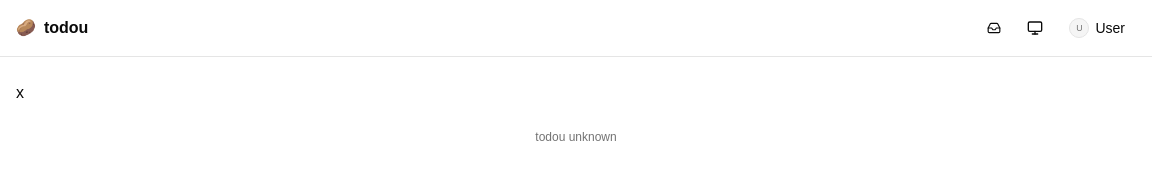
Test: AppShell logout visibility › hides Log out in forward mode — the proxy owns the login state
This screenshot has width=1152, height=192.
Press the mouse on the button "U User" at (1097, 28), box [1058,14,1136,42]
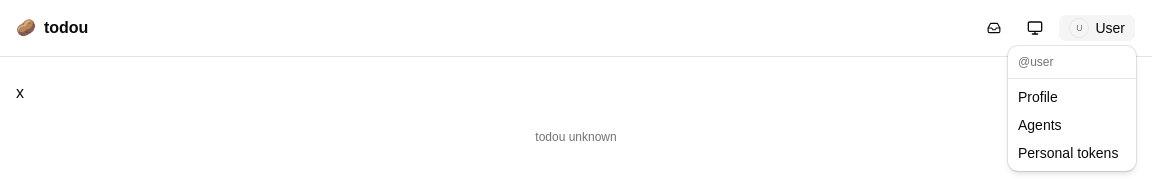
Expected: the menu item "Profile" is shown, [1018,89,1058,105]
